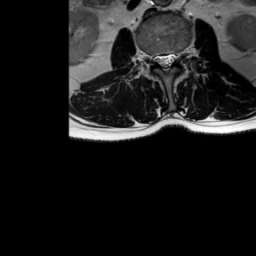CCS_normal: (162, 46, 169, 79)
LFS_normal: (176, 44, 183, 65)
LLS_normal: (169, 45, 176, 69)
RFS_normal: (147, 45, 155, 70)
RLS_normal: (155, 47, 162, 71)
